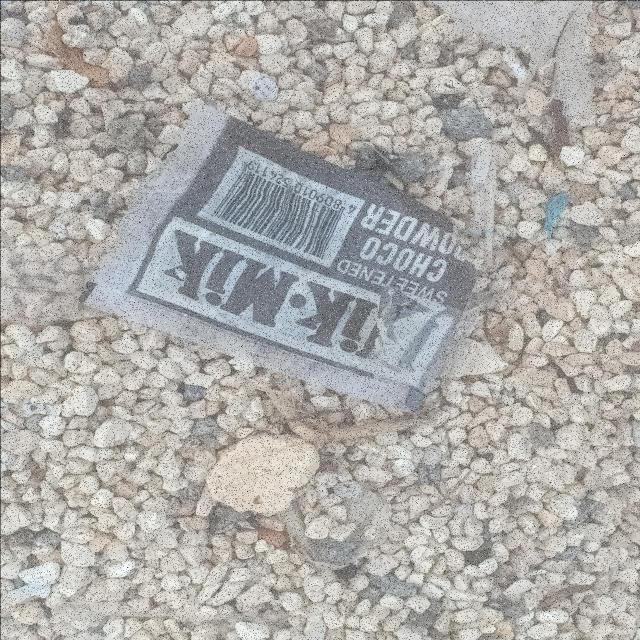plastic_waste: (80, 98, 477, 415)
